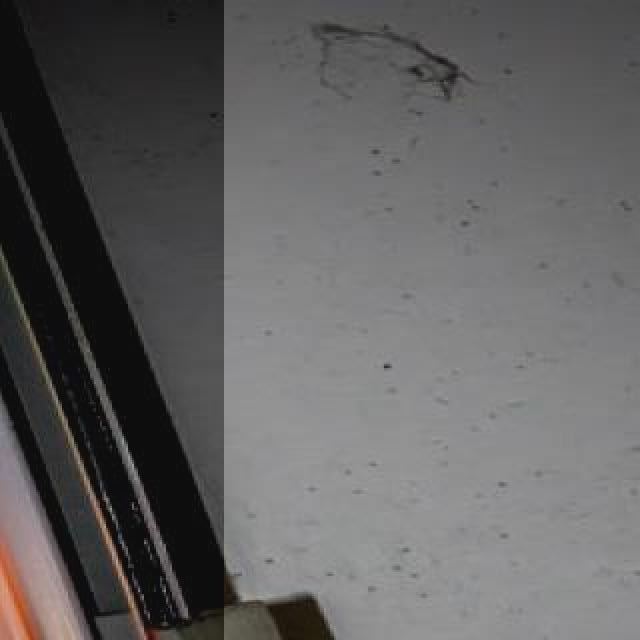fluorescent tube: (0, 0, 56, 640)
